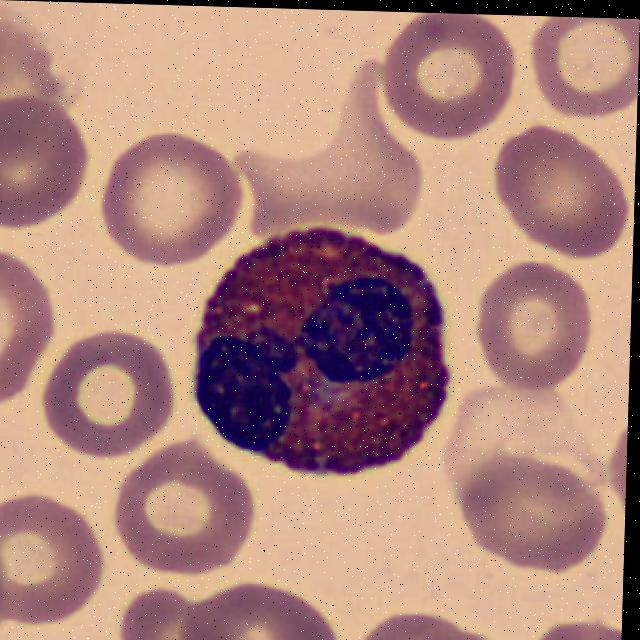eosinophil: (182, 226, 481, 480)
rbc: (229, 83, 440, 234), (94, 131, 255, 272), (478, 118, 634, 256), (455, 443, 615, 574), (376, 11, 518, 149), (38, 319, 182, 455), (114, 441, 253, 577), (479, 257, 597, 400), (0, 488, 106, 625), (0, 87, 89, 235), (528, 16, 640, 123), (175, 573, 338, 640), (0, 249, 57, 404), (118, 580, 210, 640), (355, 607, 458, 640), (519, 612, 622, 640), (604, 409, 628, 516), (397, 630, 511, 640)
